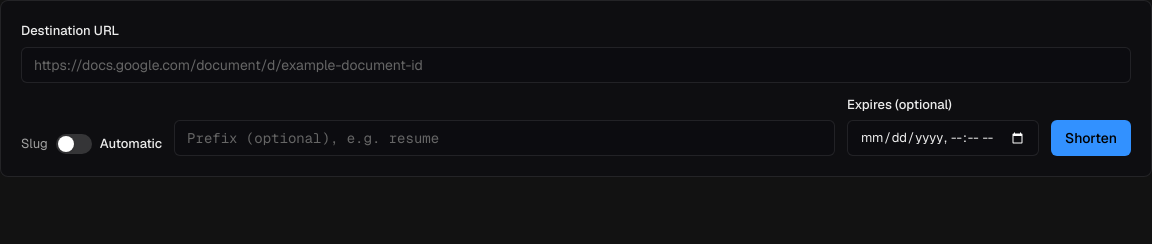
Test: CreateForm submission › surfaces slug conflicts with an actionable message and keeps input
Click the switch named "toggle custom slug" at (74, 144), box left=56, top=134, right=92, bottom=154
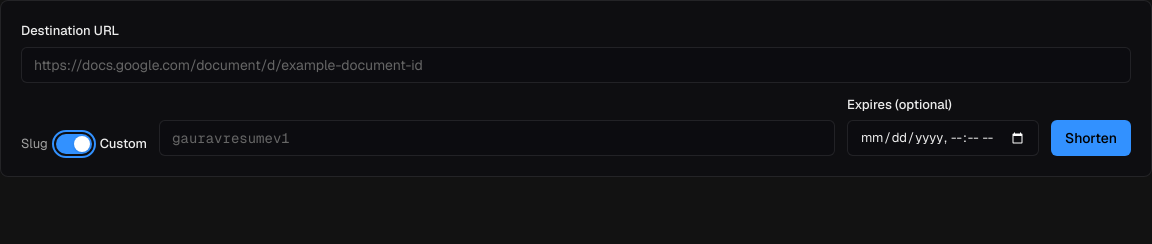
Type "https://example.com" into the field labelled "Destination URL" at (576, 64), box left=21, top=46, right=1131, bottom=82
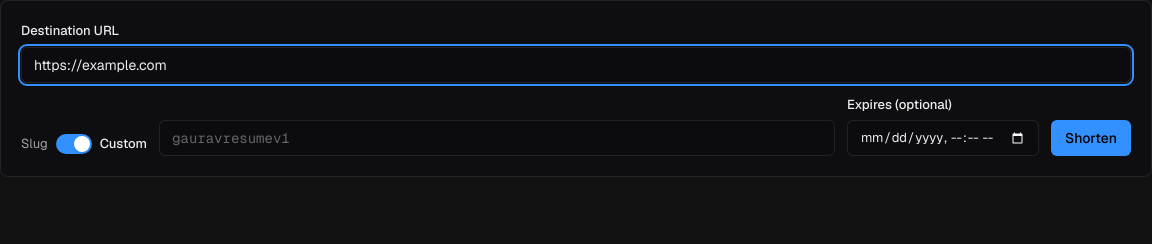
Type "taken-slug" into the field named "Custom slug" at (497, 138), box left=159, top=120, right=835, bottom=156
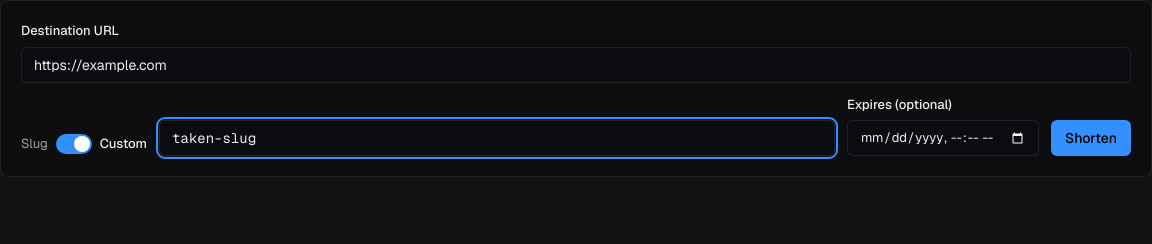
Click the button "Shorten" at (1091, 138), box left=1051, top=120, right=1131, bottom=156
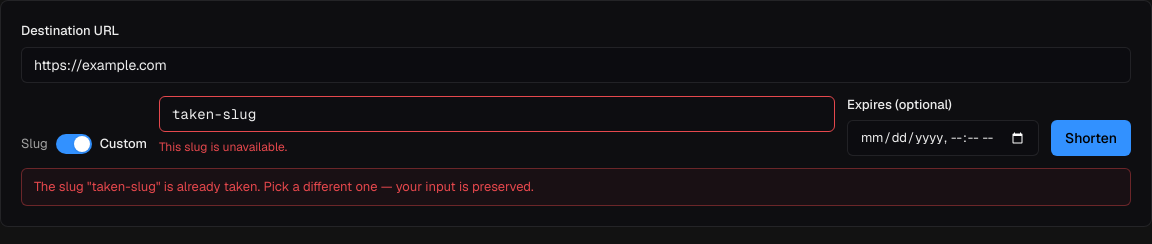
Now the text "slug \"taken-slug\" is already taken" is shown, box left=34, top=178, right=534, bottom=195
